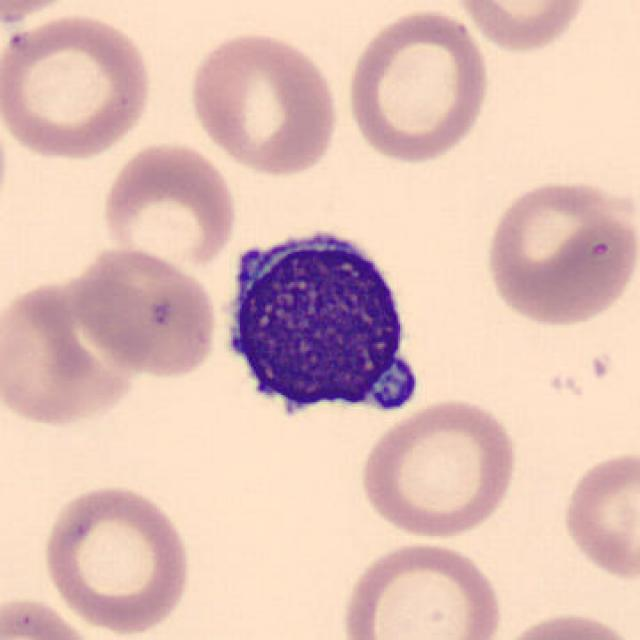Lymphocyte: (210, 213, 437, 441)
RBC: (38, 479, 196, 636), (353, 395, 522, 541), (478, 174, 638, 328), (0, 271, 153, 432), (342, 6, 494, 168), (0, 9, 158, 162), (183, 27, 343, 178), (68, 243, 222, 381), (96, 138, 240, 270), (335, 537, 508, 640), (556, 446, 638, 584), (448, 0, 594, 55), (0, 592, 103, 640), (487, 608, 638, 640), (0, 0, 89, 28)
